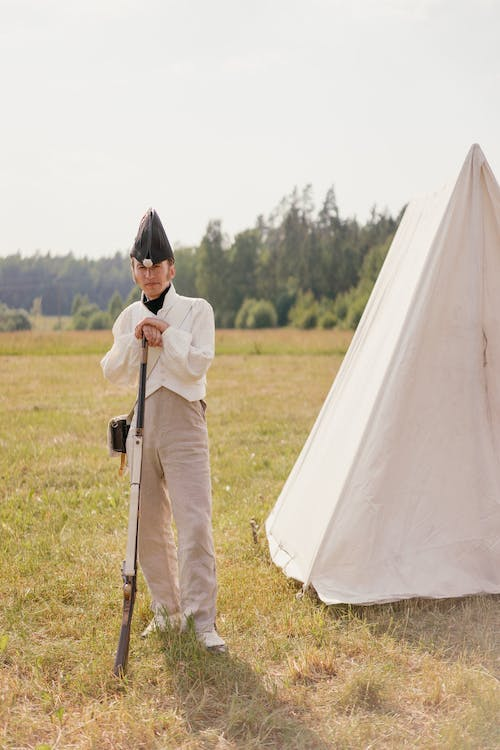gun: (109, 329, 149, 681)
